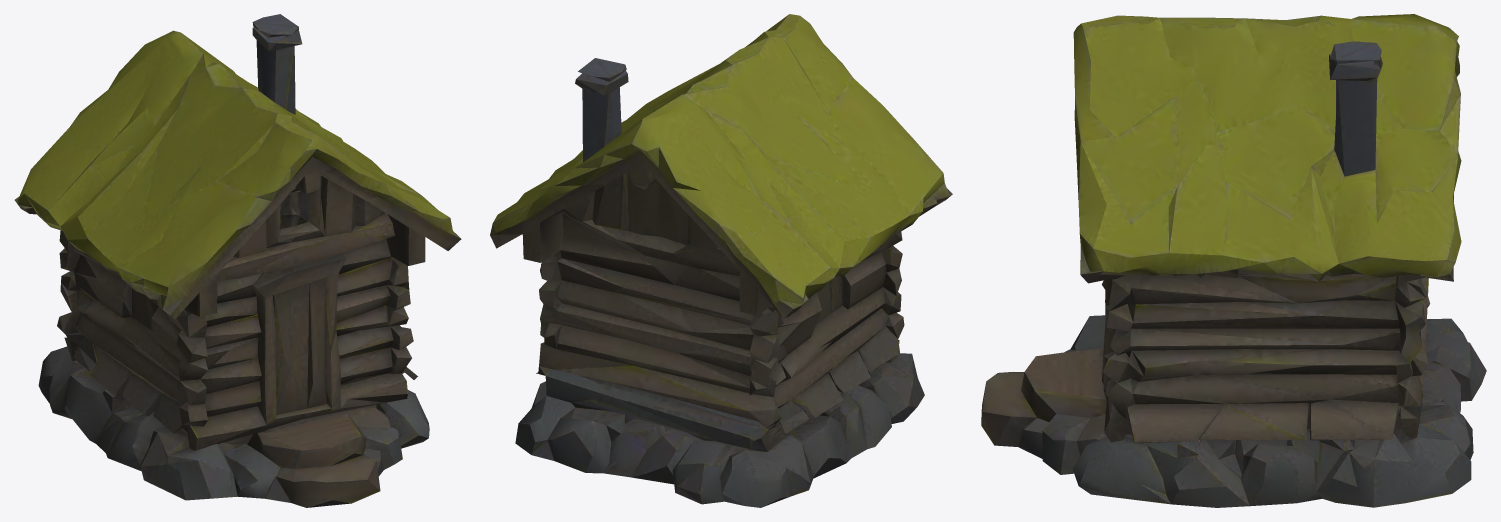
File: seterbu.glb
3 renders of one model, left to right at view 1: azimuth 30°, elevation 25°; view 2: azimuth 150°, elevation 25°; view 3: azimuth 270°, elevation 25°, orthographic. The views are drawn at different scales.
Parts seen in each view (by area): view 1: mesh_node; view 2: mesh_node; view 3: mesh_node.
Part boxes in pixels (x1,y1,x2,y2): mesh_node: (14,14,461,507); mesh_node: (490,14,952,507); mesh_node: (981,14,1486,507).
Bounding box in the file's own units: 1.57 × 1.74 × 1.9.
1 material, 1 textured.
